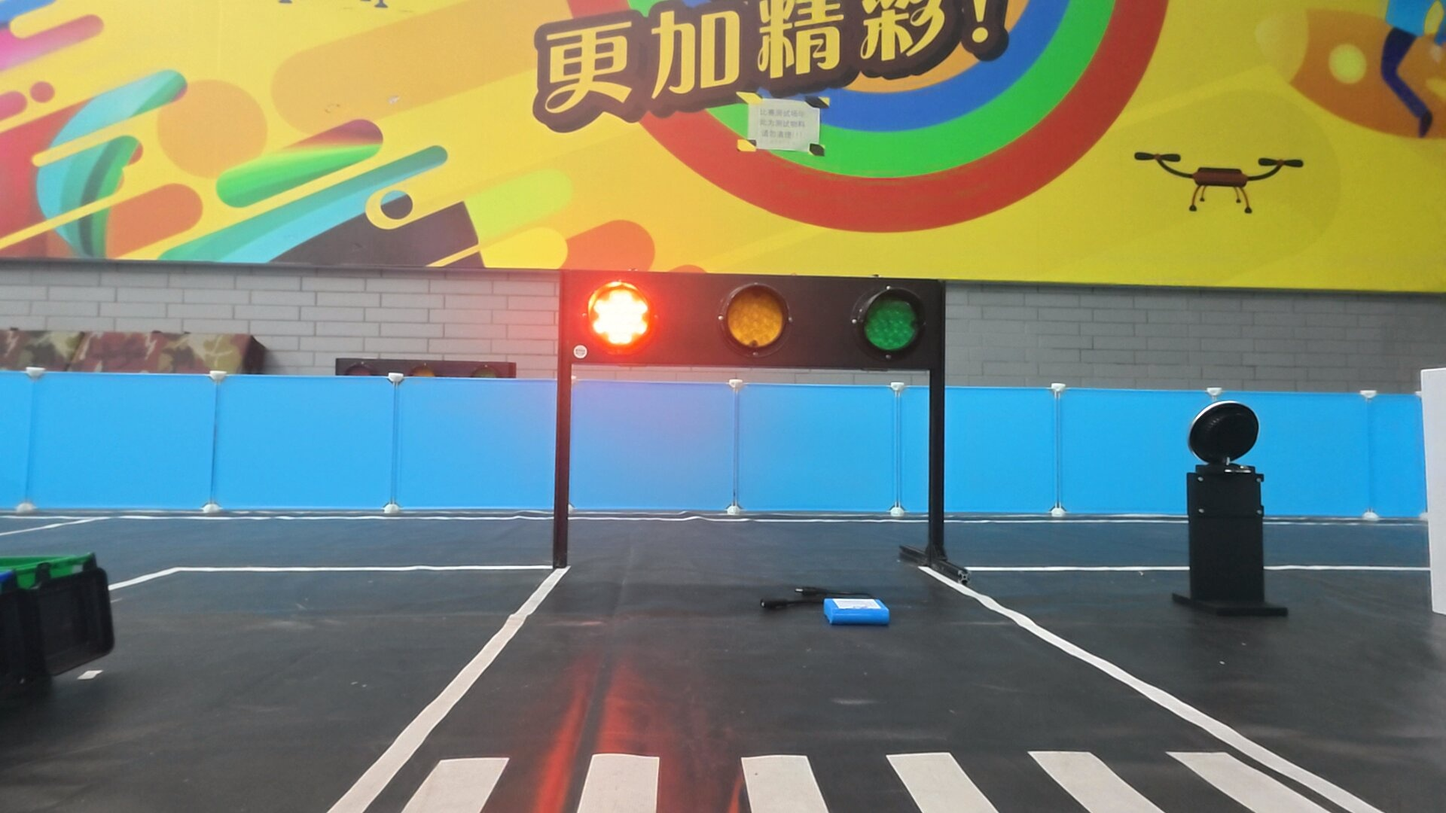stop: (582, 277, 657, 354)
